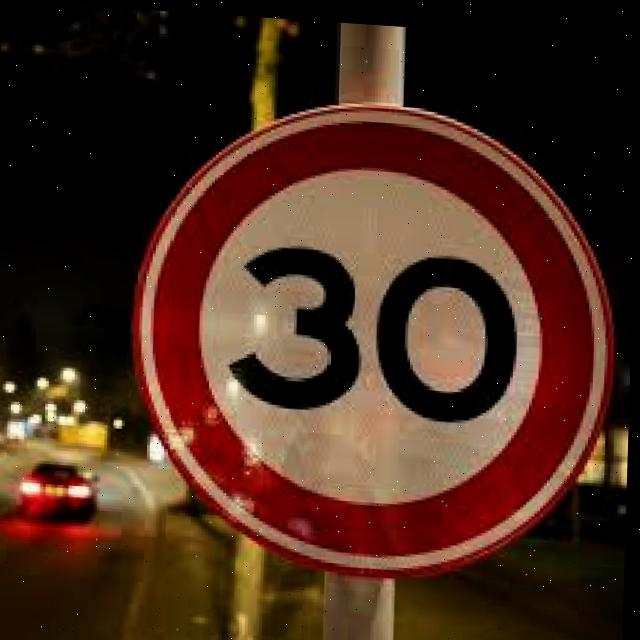Speed limit 30: (125, 83, 625, 585)
